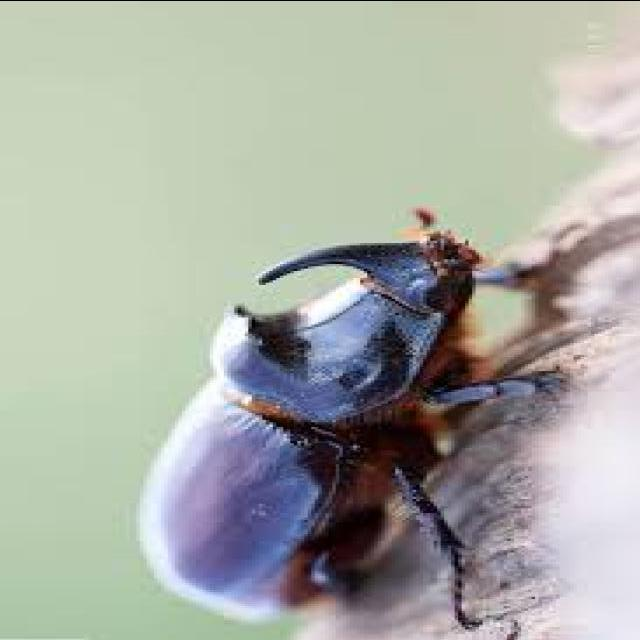Rhino-beetle: (116, 167, 542, 631)
